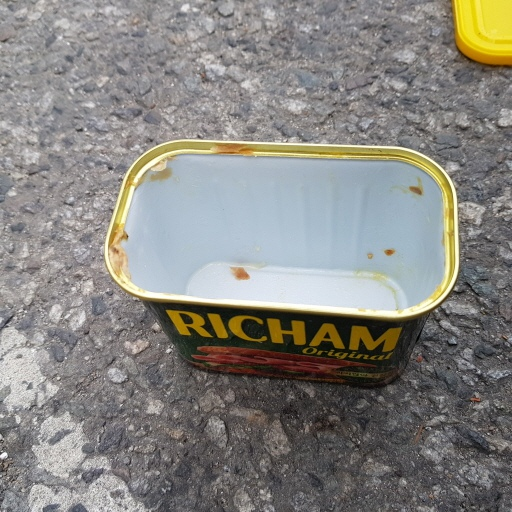Metal_2: (103, 137, 464, 381)
